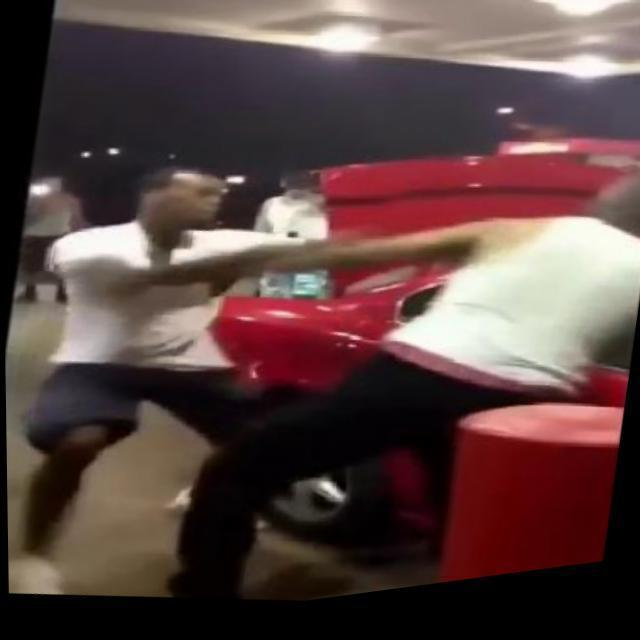fight: (2, 92, 640, 640)
